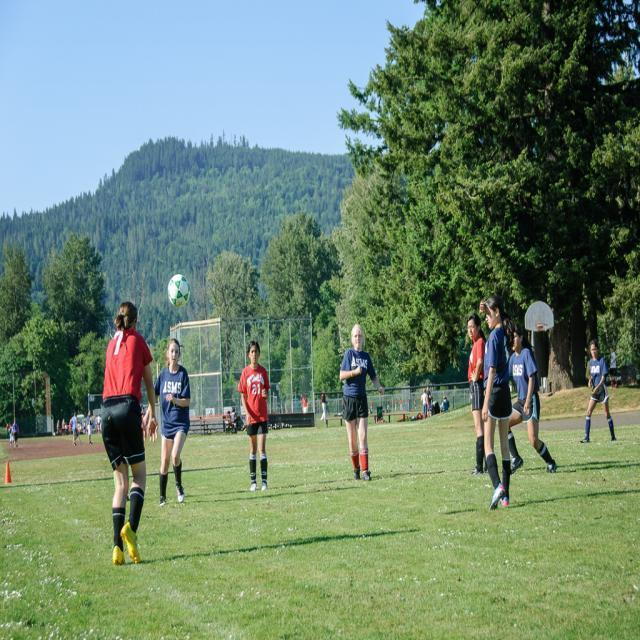football: (149, 264, 216, 321)
